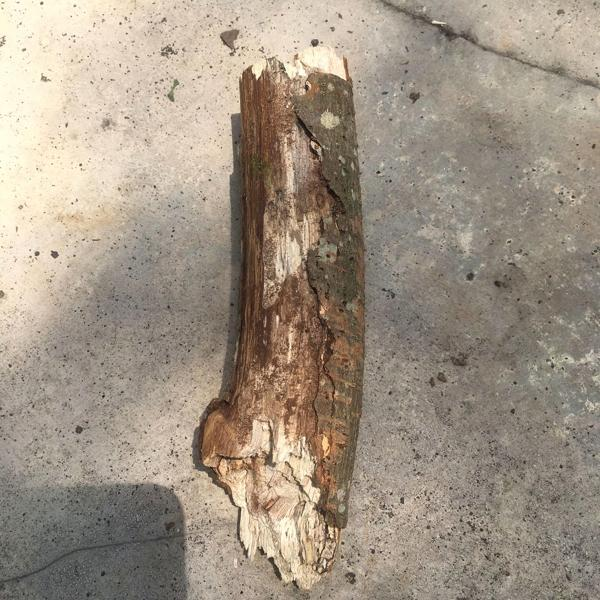Organik: (188, 32, 440, 593)
